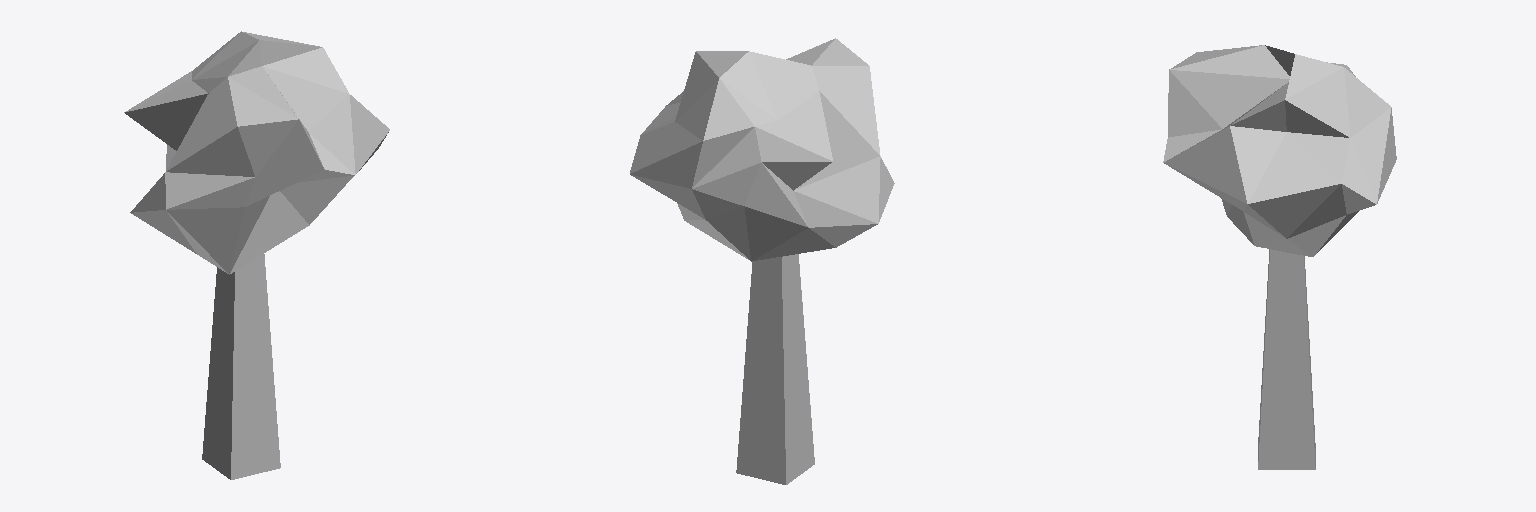
File: tree2.obj
The picture shows the model from 3 angles: view 1: azimuth 30°, elevation 25°; view 2: azimuth 150°, elevation 25°; view 3: azimuth 270°, elevation 25°; orthographic projection.
Parts seen in each view (by area): view 1: Icosphere, Cube_Cube.003; view 2: Icosphere, Cube_Cube.003; view 3: Icosphere, Cube_Cube.003.
Boxes of the visible parts, box(x1,y1,x2,y2) form: Icosphere: box(124, 31, 389, 274); Cube_Cube.003: box(202, 254, 280, 479); Icosphere: box(630, 38, 894, 261); Cube_Cube.003: box(736, 254, 814, 484); Icosphere: box(1163, 45, 1396, 256); Cube_Cube.003: box(1258, 249, 1315, 469).
Size of the model in its own units: 2.63 by 4.41 by 2.25.